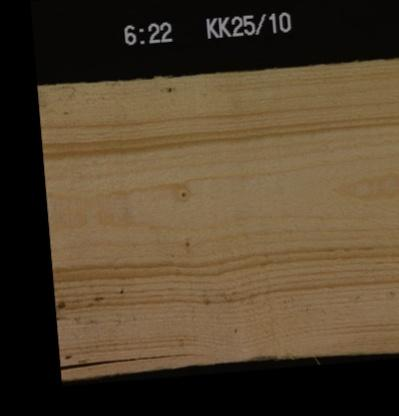small_knot: (175, 183, 190, 202), (162, 80, 175, 96), (180, 236, 192, 248)
split: (59, 349, 207, 366)
wave: (243, 347, 302, 360)
